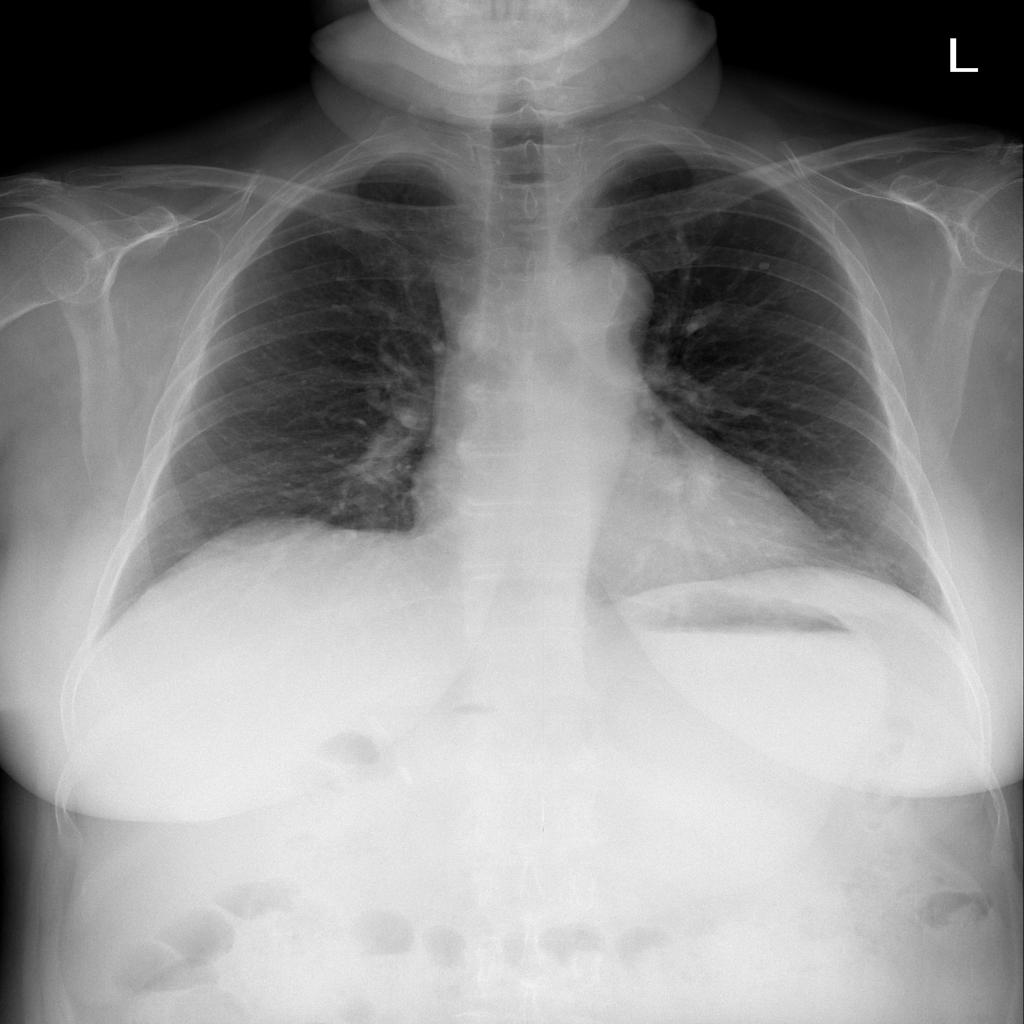nodule: (747, 253, 779, 279)
